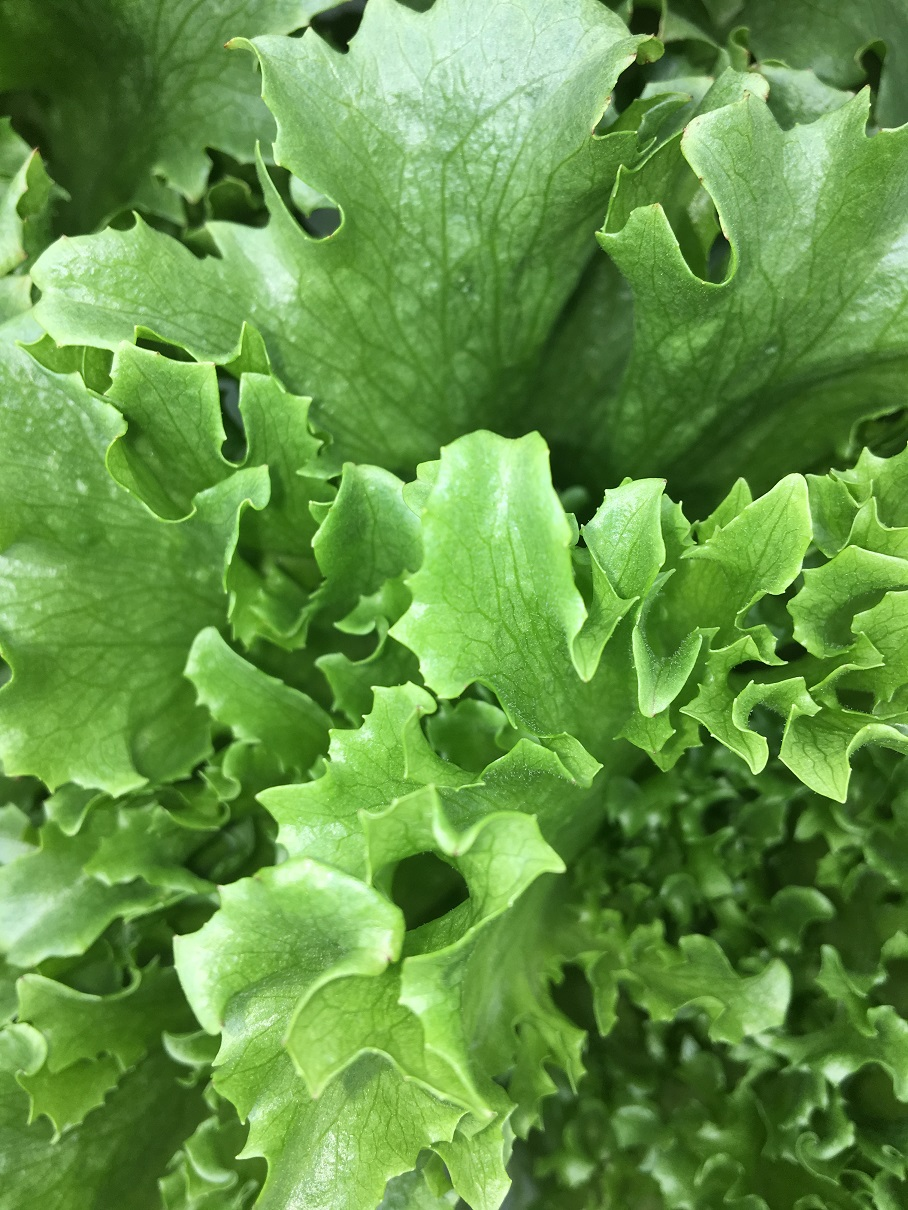tipburn: (586, 82, 627, 123), (730, 77, 770, 117), (210, 26, 247, 65), (673, 79, 711, 115), (613, 38, 649, 73), (683, 159, 718, 195), (642, 190, 677, 225), (730, 36, 763, 72), (18, 136, 56, 167), (666, 113, 699, 147), (708, 217, 736, 248), (16, 243, 43, 270)
